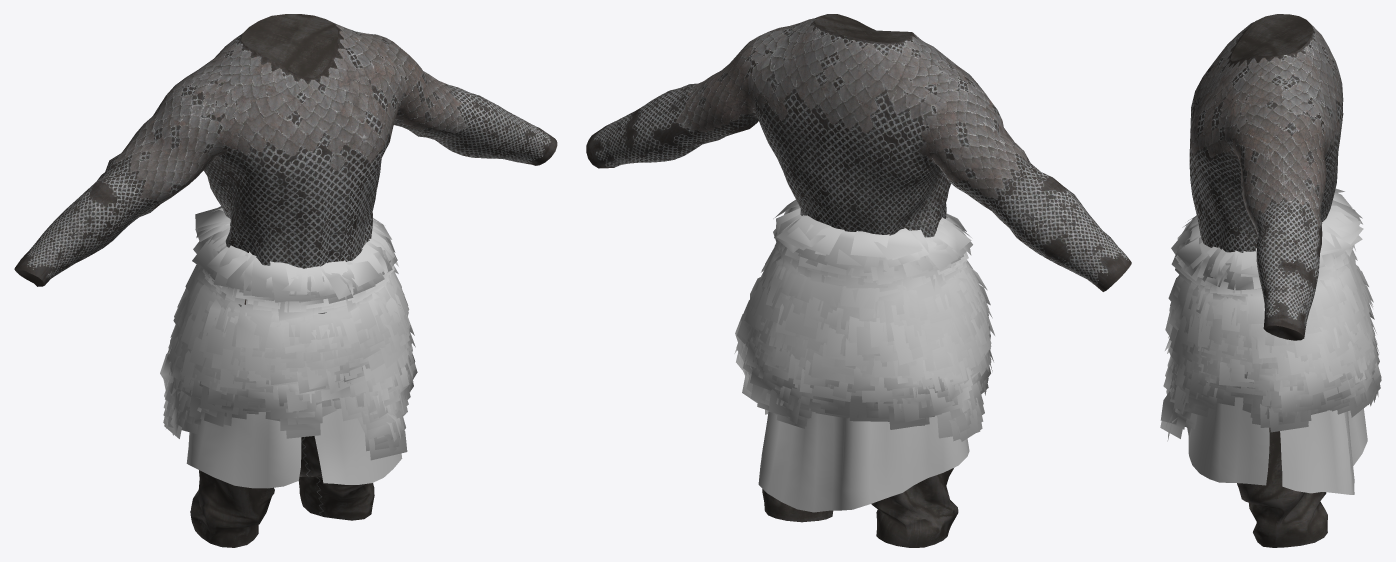
File: sk_gb_uruk_chest_light_d.fbx
3 renders of one model, left to right at view 1: azimuth 30°, elevation 25°; view 2: azimuth 150°, elevation 25°; view 3: azimuth 270°, elevation 25°, orthographic. The views are drawn at different scales.
Visible parts, largest first — view 1: sk_gb_uruk_chest_light_d.base, sk_gb_uruk_chest_light_d.skirt.2, sk_gb_uruk_chest_light_d.skirt.1; view 2: sk_gb_uruk_chest_light_d.base, sk_gb_uruk_chest_light_d.skirt.2, sk_gb_uruk_chest_light_d.skirt.1; view 3: sk_gb_uruk_chest_light_d.base, sk_gb_uruk_chest_light_d.skirt.2, sk_gb_uruk_chest_light_d.skirt.1.
Boxes of the visible parts, x1=… form: sk_gb_uruk_chest_light_d.base: x1=14, y1=14, x2=557, y2=547; sk_gb_uruk_chest_light_d.skirt.2: x1=160, y1=206, x2=417, y2=460; sk_gb_uruk_chest_light_d.skirt.1: x1=186, y1=408, x2=402, y2=488; sk_gb_uruk_chest_light_d.base: x1=586, y1=14, x2=1131, y2=547; sk_gb_uruk_chest_light_d.skirt.2: x1=734, y1=199, x2=994, y2=441; sk_gb_uruk_chest_light_d.skirt.1: x1=758, y1=409, x2=969, y2=512; sk_gb_uruk_chest_light_d.base: x1=1189, y1=14, x2=1343, y2=547; sk_gb_uruk_chest_light_d.skirt.2: x1=1160, y1=188, x2=1381, y2=441; sk_gb_uruk_chest_light_d.skirt.1: x1=1187, y1=397, x2=1367, y2=494.
Bounding box in the file's own units: 1.35 × 0.4991 × 1.2.
